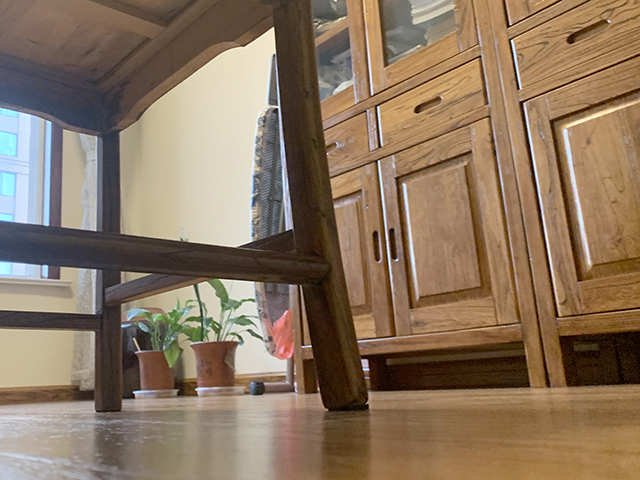cabinet: (356, 31, 640, 394)
curtain: (68, 131, 97, 392)
stool: (1, 1, 370, 411)
